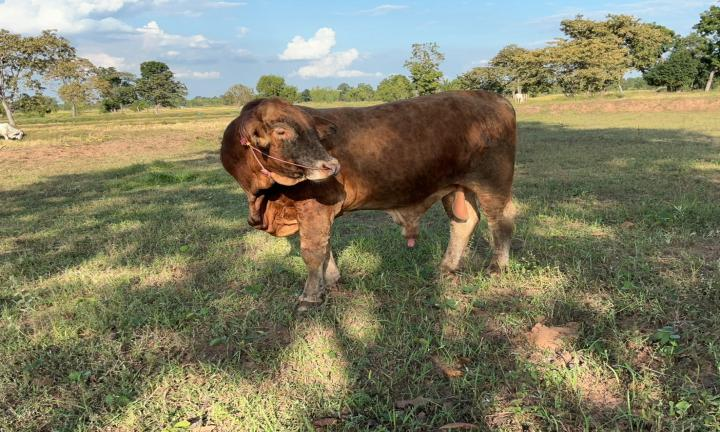Charolais: (221, 90, 517, 309)
